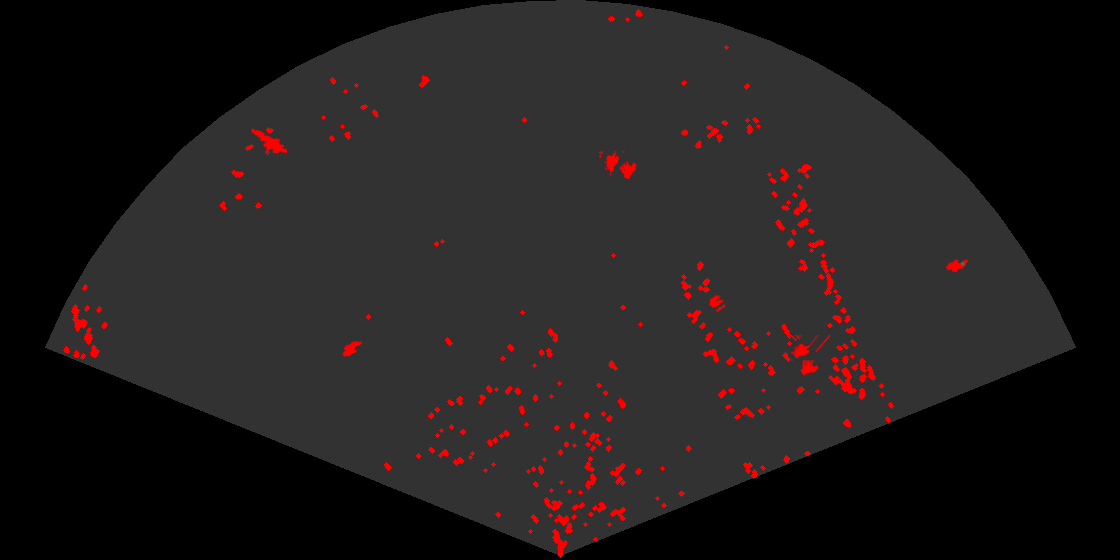AUV: (341, 339, 364, 358), (944, 258, 970, 274)
ball: (707, 293, 727, 314)
cage: (788, 335, 830, 377), (599, 151, 638, 181)
frogman: (249, 127, 287, 156)
